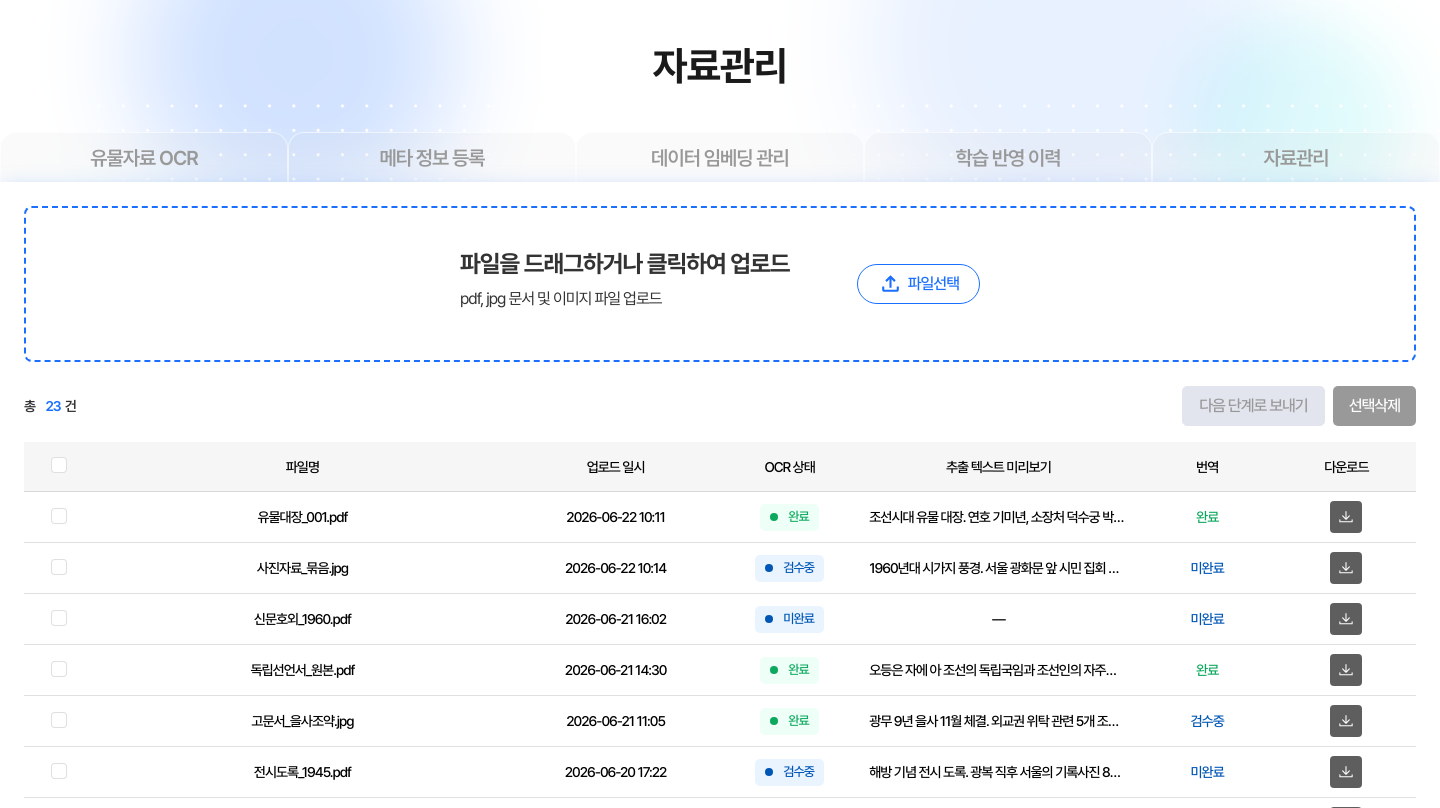
it: Ocr: "다음 단계로 보내기"는 준비중 — 선택 행이 그대로 남고 토스트만 뜬다(D2a)
Click the checkbox named "선택 o1": (59, 516) [51,508,67,524]
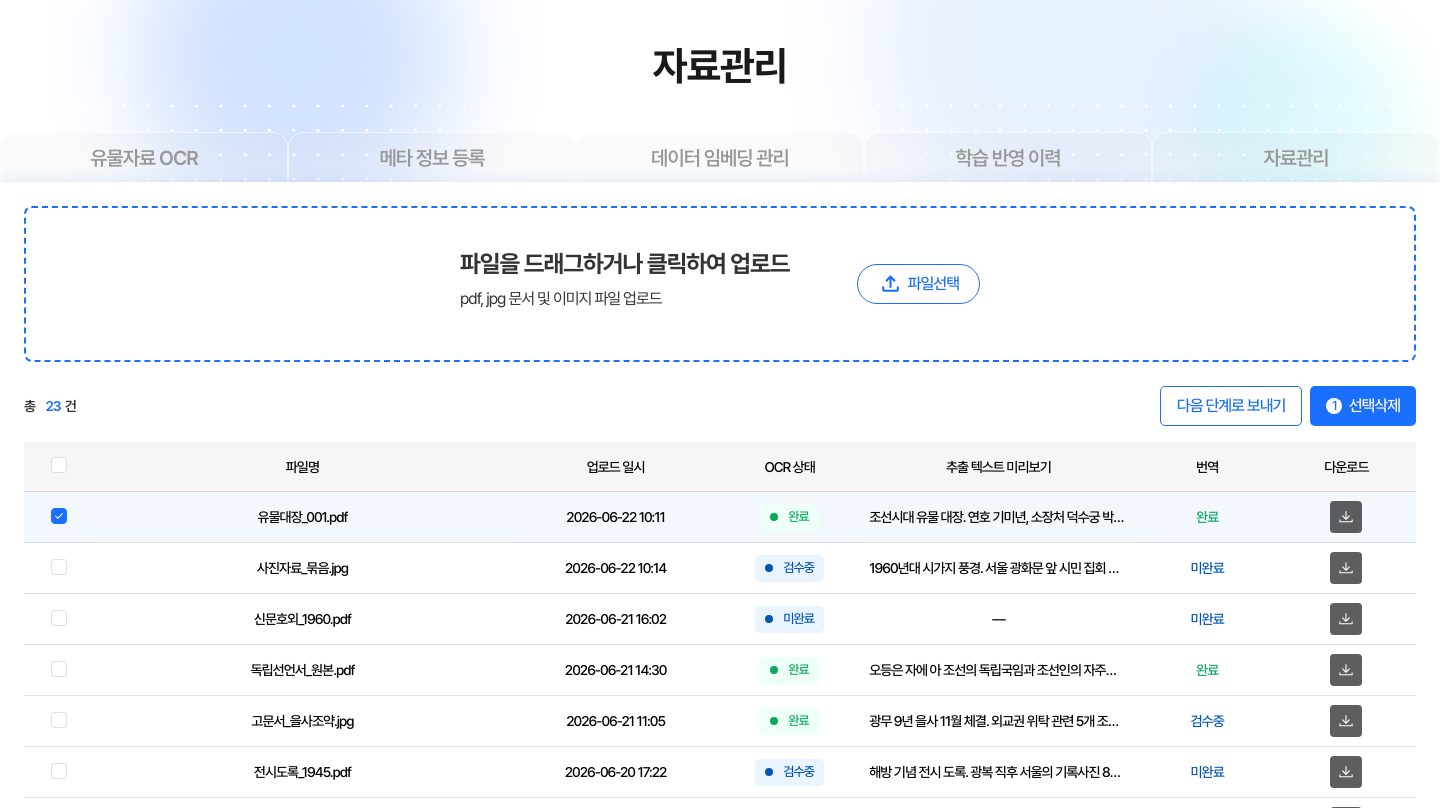
Click the button "다음 단계로 보내기": (1231, 406) [1160,386,1302,426]
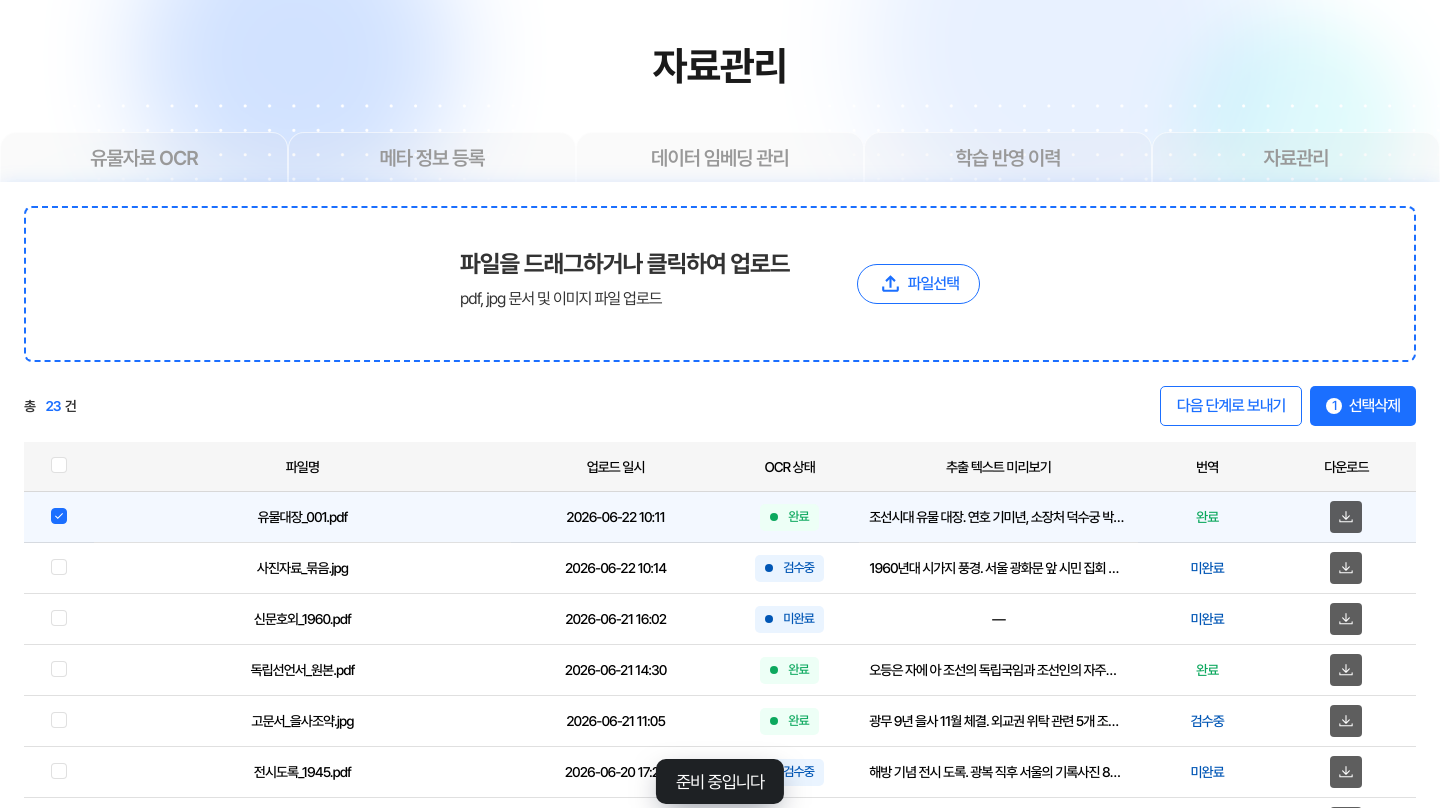
Expected: the text "유물대장_001.pdf" is shown, [94,492,511,543]
Result: the message reads "준비 중입니다" at [676,771,764,792]
